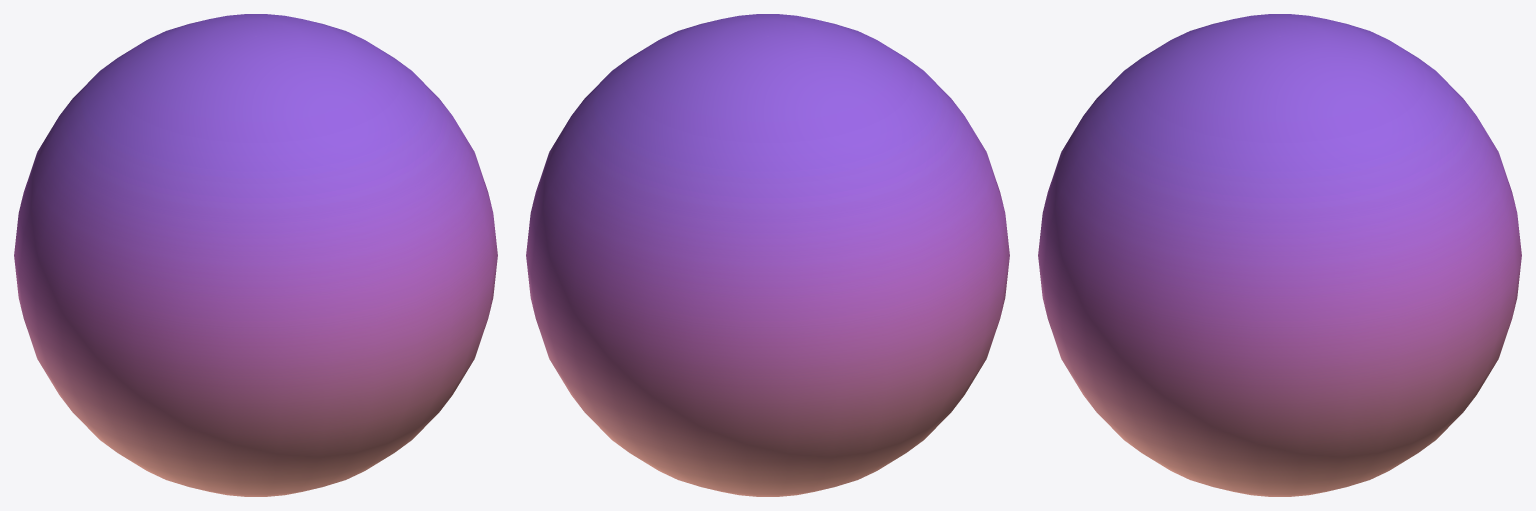
Rendered from magic_celestial_ball.fbx.
3 renders of one model, left to right at view 1: azimuth 30°, elevation 25°; view 2: azimuth 150°, elevation 25°; view 3: azimuth 270°, elevation 25°, orthographic.
Parts seen in each view (by area): view 1: ball; view 2: ball; view 3: ball.
Boxes of the visible parts, x1,y1,x2,y2 form: ball: (14, 14, 497, 496); ball: (526, 14, 1009, 496); ball: (1038, 14, 1521, 496).
Size of the model in its own units: 199 by 200 by 200.
